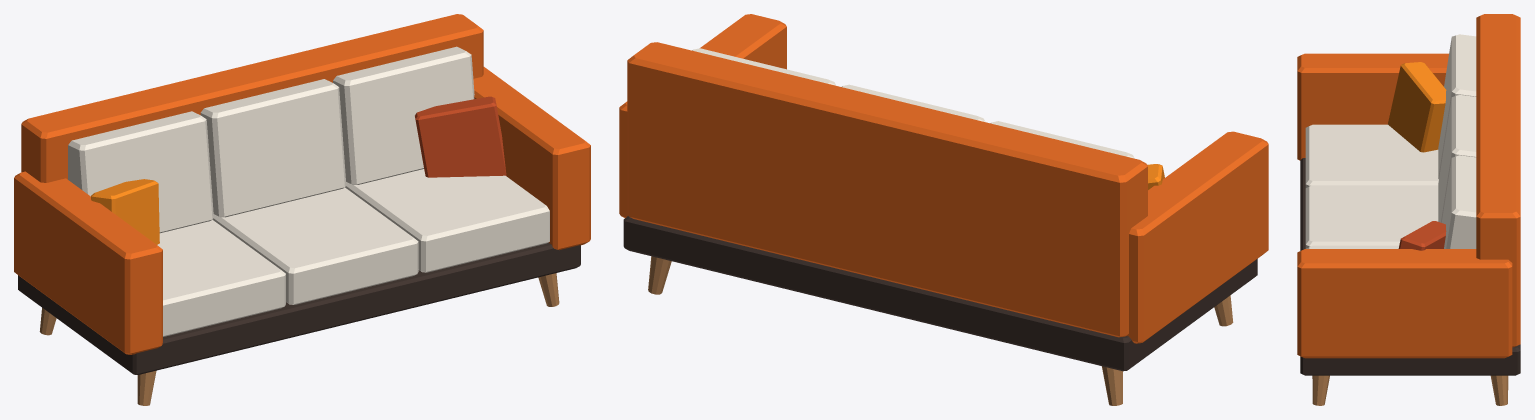
File: ModernSofa.obj
3 views of the same model, side by side, from view 1: azimuth 30°, elevation 25°; view 2: azimuth 150°, elevation 25°; view 3: azimuth 270°, elevation 25° (orthographic). The views are drawn at different scales.
Visible parts, largest first — view 1: ModernSofa_Fabric_Cream, ModernSofa_Fabric_OrangeMain, ModernSofa_Fabric_DarkWarm, ModernSofa_Fabric_Terracotta, ModernSofa_Accent_VibrantOrange, ModernSofa_Wood_Oak; view 2: ModernSofa_Fabric_OrangeMain, ModernSofa_Fabric_DarkWarm, ModernSofa_Fabric_Cream, ModernSofa_Wood_Oak; view 3: ModernSofa_Fabric_OrangeMain, ModernSofa_Fabric_Cream, ModernSofa_Fabric_DarkWarm, ModernSofa_Accent_VibrantOrange, ModernSofa_Fabric_Terracotta, ModernSofa_Wood_Oak.
Boxes of the visible parts, box(x1,y1,x2,y2) form: ModernSofa_Fabric_Cream: box(68, 46, 549, 336); ModernSofa_Fabric_OrangeMain: box(14, 14, 590, 354); ModernSofa_Fabric_DarkWarm: box(18, 242, 580, 374); ModernSofa_Fabric_Terracotta: box(415, 96, 506, 177); ModernSofa_Accent_VibrantOrange: box(91, 179, 159, 244); ModernSofa_Wood_Oak: box(39, 273, 559, 405); ModernSofa_Fabric_OrangeMain: box(619, 14, 1268, 343); ModernSofa_Fabric_DarkWarm: box(623, 216, 1257, 371); ModernSofa_Fabric_Cream: box(692, 48, 1134, 158); ModernSofa_Wood_Oak: box(648, 256, 1233, 405); ModernSofa_Fabric_OrangeMain: box(1297, 14, 1520, 358); ModernSofa_Fabric_Cream: box(1305, 34, 1476, 248); ModernSofa_Fabric_DarkWarm: box(1300, 158, 1520, 375); ModernSofa_Accent_VibrantOrange: box(1387, 62, 1446, 152); ModernSofa_Fabric_Terracotta: box(1398, 221, 1446, 250); ModernSofa_Wood_Oak: box(1312, 375, 1508, 405).
Bounding box in the file's own units: 1.83 × 0.7938 × 0.81.
